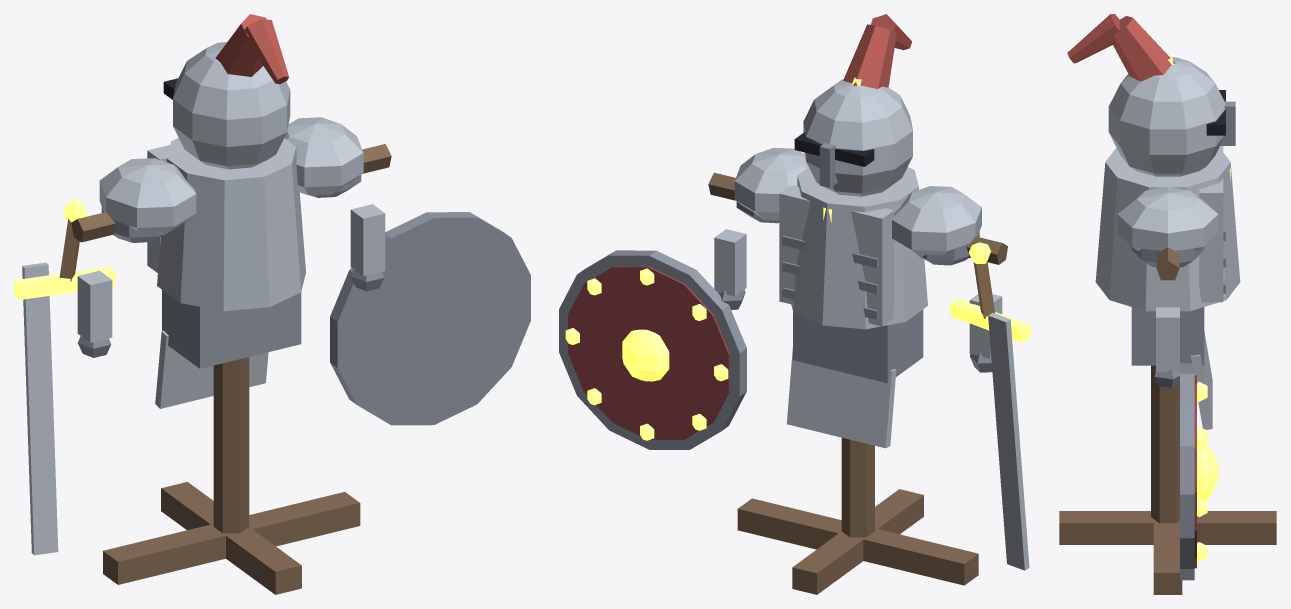
File: armor_stand.glb
The picture shows the model from 3 angles, left to right: view 1: azimuth 30°, elevation 25°; view 2: azimuth 150°, elevation 25°; view 3: azimuth 270°, elevation 25°; orthographic projection. The views are drawn at different scales.
Visible parts, largest first — view 1: armor_stand; view 2: armor_stand; view 3: armor_stand.
Boxes of the visible parts, x1,y1,x2,y2 form: armor_stand: (14, 14, 530, 594); armor_stand: (559, 14, 1030, 594); armor_stand: (1059, 14, 1276, 594).
Size of the model in its own units: 2.29 by 2.4 by 0.9.
